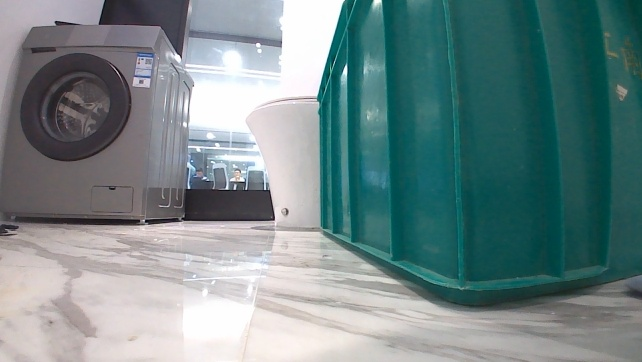toilet: (243, 92, 323, 230)
washing_machine: (0, 23, 195, 220)
